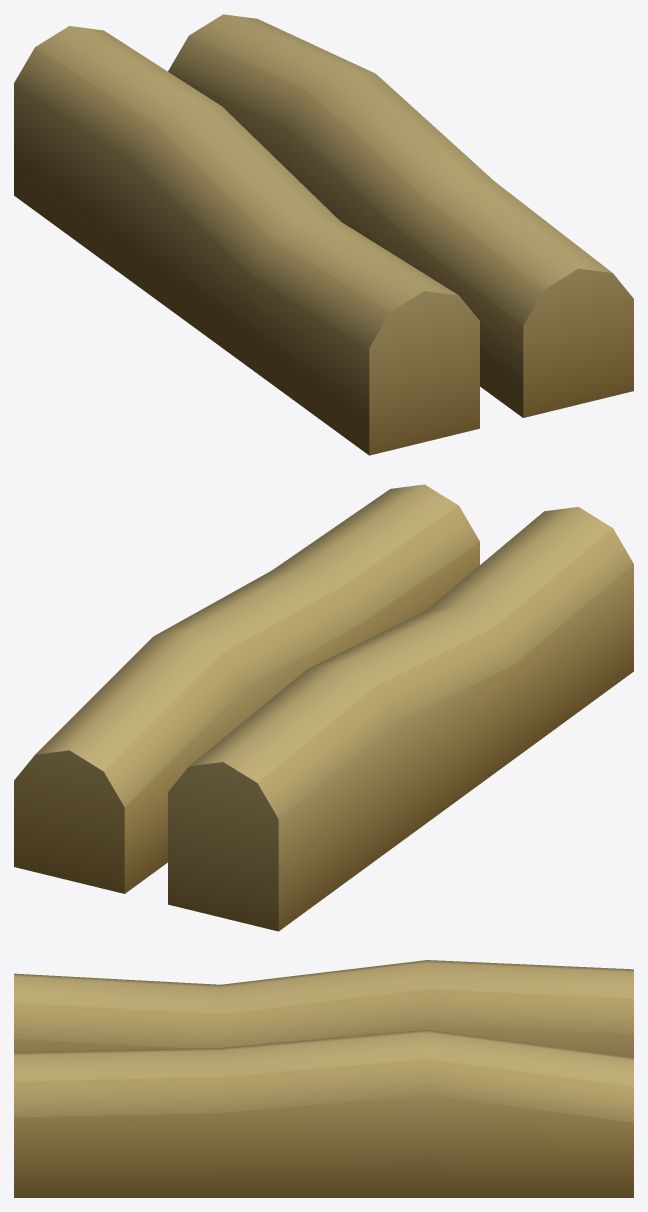
Rendered from fld_wheat_row.glb.
3 renders of one model, top to bottom at view 1: azimuth 30°, elevation 25°; view 2: azimuth 150°, elevation 25°; view 3: azimuth 270°, elevation 25°, orthographic. The views are drawn at different scales.
Visible parts, largest first — view 1: fld_wheat_row; view 2: fld_wheat_row; view 3: fld_wheat_row.
Boxes of the visible parts, x1=… form: fld_wheat_row: x1=14, y1=14, x2=633, y2=455; fld_wheat_row: x1=14, y1=484, x2=633, y2=931; fld_wheat_row: x1=14, y1=960, x2=633, y2=1197.
Size of the model in its own units: 0.215 by 0.1295 by 0.5.
